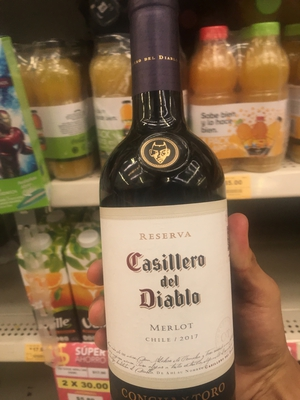casillero del diablo merlot: (96, 13, 236, 393)
